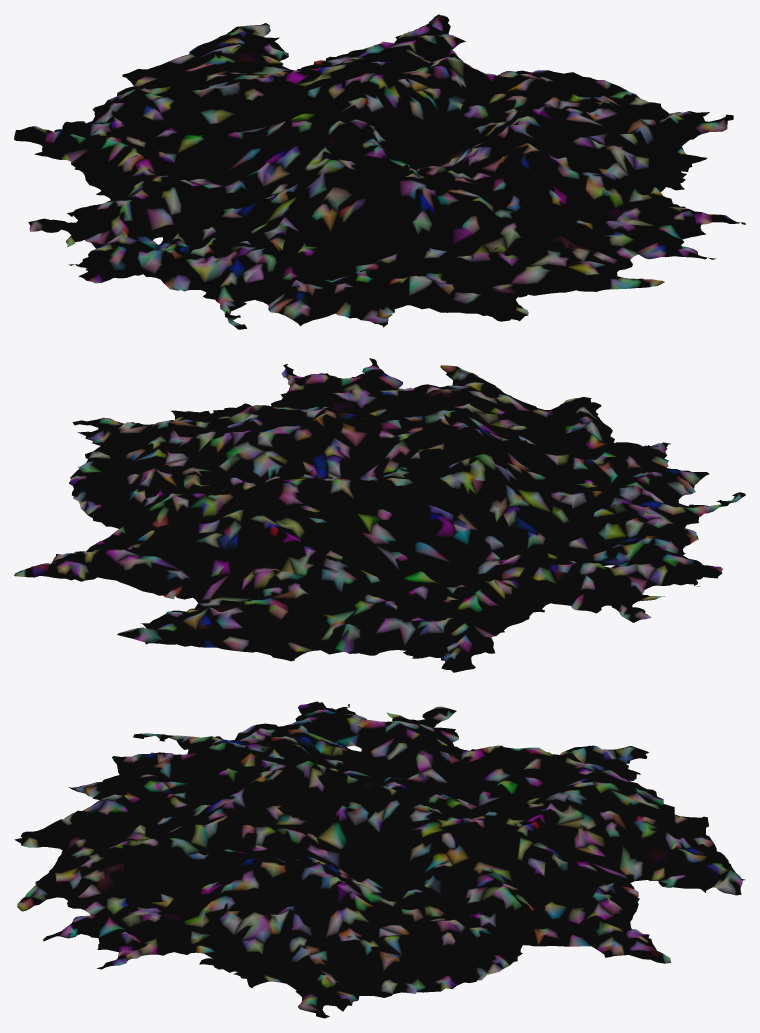
Rendered from Hills_A.gltf.
3 renders of one model, top to bottom at view 1: azimuth 30°, elevation 25°; view 2: azimuth 150°, elevation 25°; view 3: azimuth 270°, elevation 25°, orthographic.
Parts seen in each view (by area): view 1: Hills_A; view 2: Hills_A; view 3: Hills_A.
Boxes of the visible parts, bbox=[...] form: Hills_A: bbox=[14, 14, 745, 329]; Hills_A: bbox=[14, 358, 745, 672]; Hills_A: bbox=[14, 701, 745, 1018].
Bounding box in the file's own units: 753 × 67.01 × 736.
